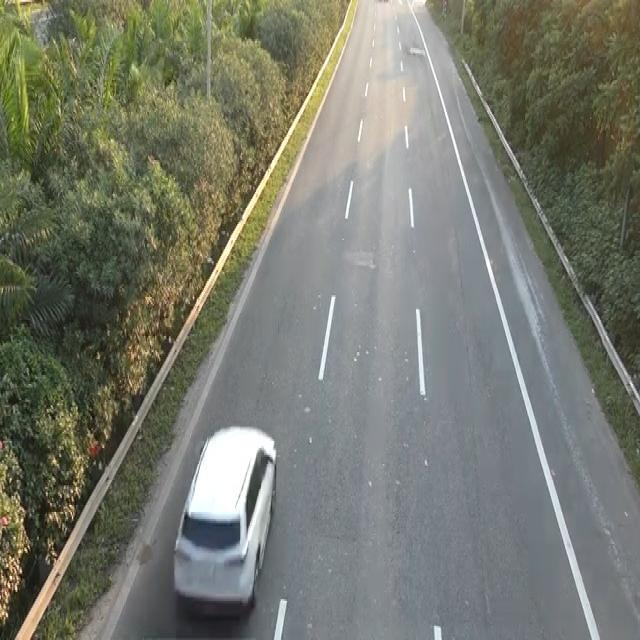car: (170, 419, 279, 617)
